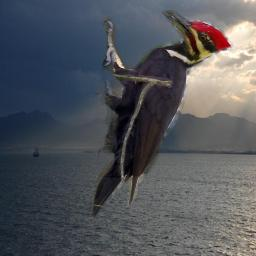Woodpecker: (89, 10, 233, 219)
